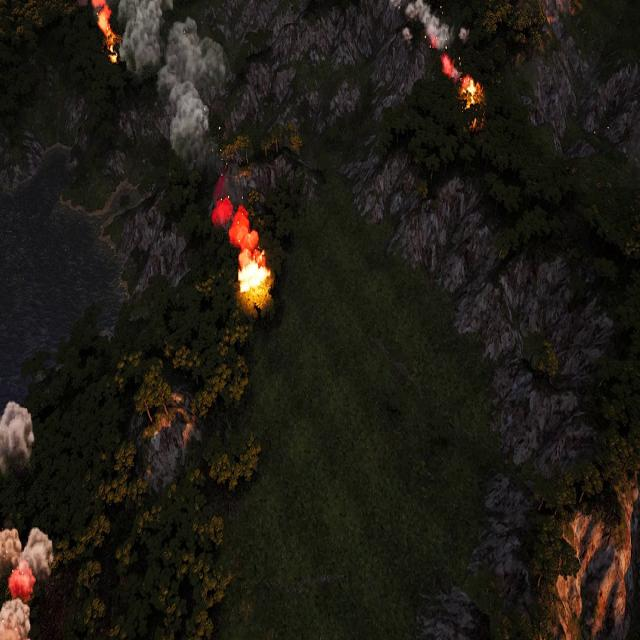fire: (237, 248, 271, 298), (95, 1, 118, 61), (460, 74, 482, 110)
smoke: (119, 0, 263, 250), (0, 524, 54, 640), (403, 0, 469, 82), (0, 396, 36, 484)
